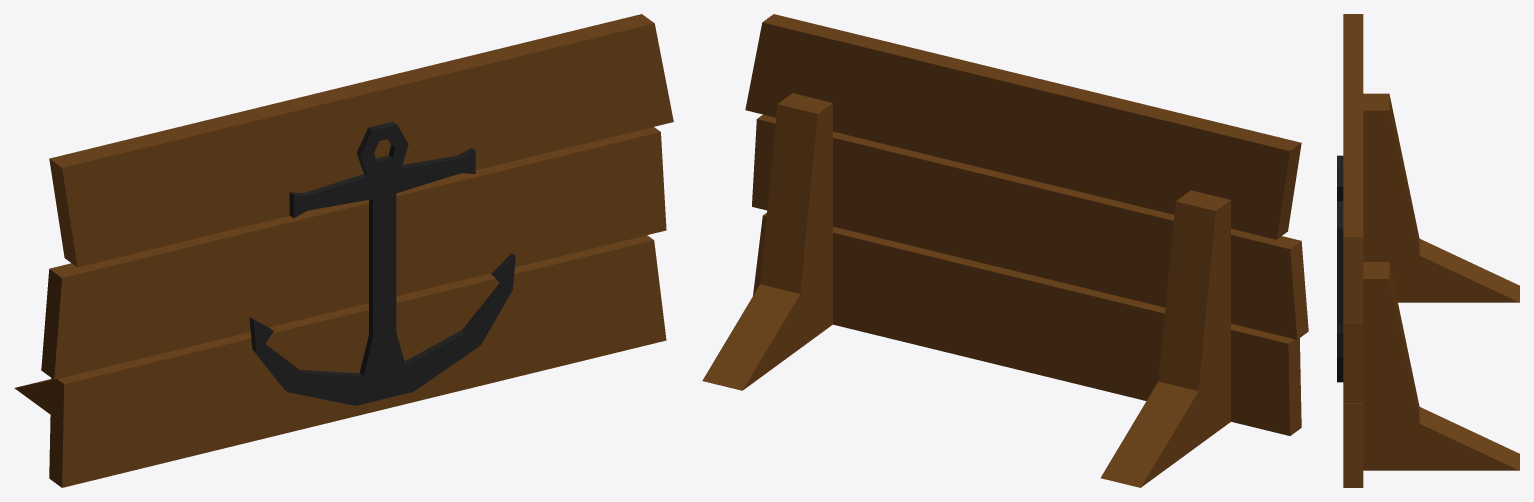
File: AnchorSign.fbx
3 views of the same model, side by side, from view 1: azimuth 30°, elevation 25°; view 2: azimuth 150°, elevation 25°; view 3: azimuth 270°, elevation 25° (orthographic). The views are drawn at different scales.
Parts seen in each view (by area): view 1: AnchorSign; view 2: AnchorSign; view 3: AnchorSign.
Boxes of the visible parts, x1,y1,x2,y2 form: AnchorSign: [14, 14, 673, 487]; AnchorSign: [702, 14, 1308, 487]; AnchorSign: [1337, 14, 1519, 487].
Bounding box in the file's own units: 120 × 59.24 × 39.76.
